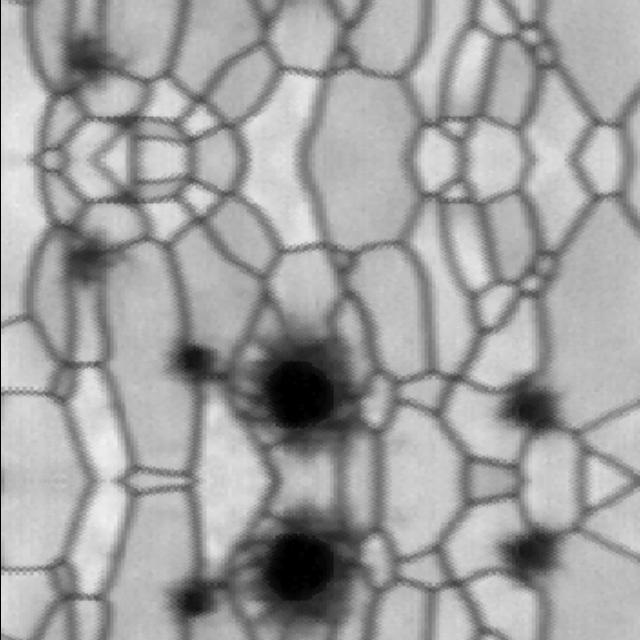good_void: (193, 283, 382, 497), (216, 482, 363, 640), (146, 320, 234, 415), (146, 546, 234, 640), (484, 512, 568, 595), (484, 367, 568, 449), (43, 220, 122, 303), (43, 15, 122, 98)
